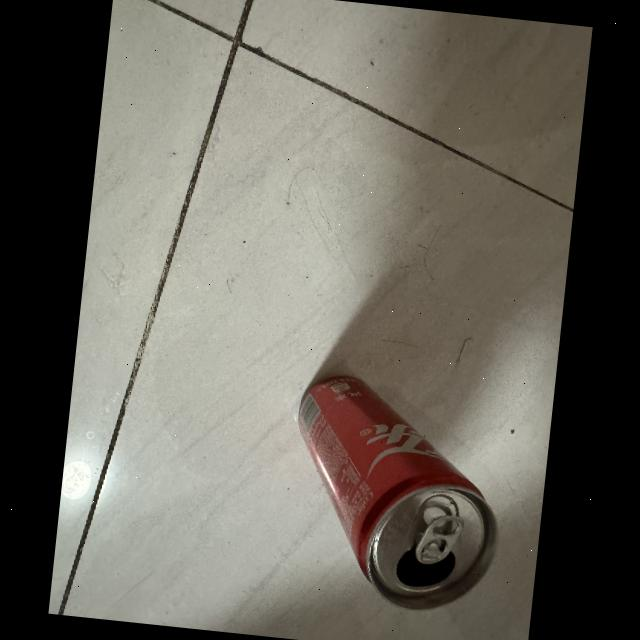Cola: (264, 350, 524, 631)
